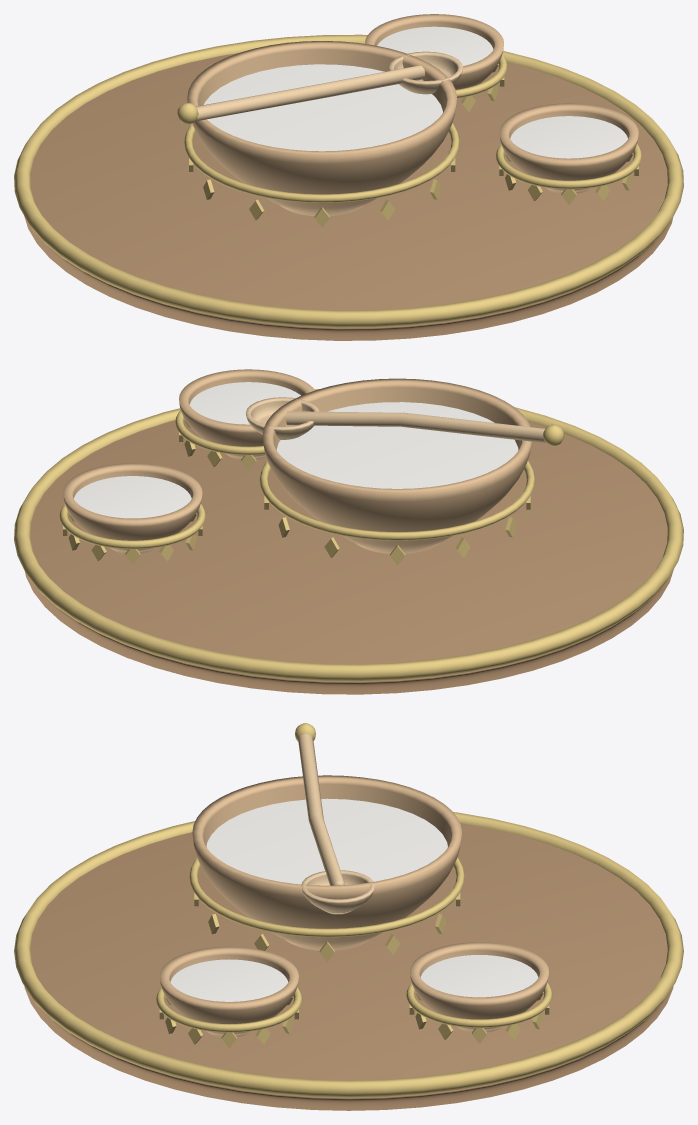
The model's file is kymyz.glb.
3 views of the same model, one above another, from view 1: azimuth 30°, elevation 25°; view 2: azimuth 150°, elevation 25°; view 3: azimuth 270°, elevation 25° (orthographic).
Parts seen in each view (by area): view 1: table, bowl (×3), table-rim, liquid (×3), bowl-band (×3), ladle-handle, ladle-cup; view 2: table, bowl (×3), liquid (×3), table-rim, bowl-band (×3), ladle-handle, ladle-cup; view 3: table, bowl (×3), liquid (×3), table-rim, bowl-band (×3), ladle-handle, ladle-cup.
Boxes of the visible parts, bbox=[...] form: table: bbox=[24, 53, 672, 340]; bowl (×3): bbox=[187, 14, 638, 216]; table-rim: bbox=[14, 34, 683, 327]; liquid (×3): bbox=[204, 26, 627, 158]; bowl-band (×3): bbox=[184, 54, 642, 202]; ladle-handle: bbox=[195, 65, 425, 121]; ladle-cup: bbox=[389, 51, 462, 94]; table: bbox=[25, 419, 673, 694]; bowl (×3): bbox=[63, 369, 531, 553]; liquid (×3): bbox=[74, 382, 518, 518]; table-rim: bbox=[14, 389, 683, 681]; bowl-band (×3): bbox=[59, 410, 535, 549]; ladle-handle: bbox=[286, 411, 545, 443]; ladle-cup: bbox=[246, 397, 319, 439]; table: bbox=[24, 823, 673, 1110]; bowl (×3): bbox=[159, 775, 548, 1036]; liquid (×3): bbox=[170, 798, 538, 1001]; table-rim: bbox=[14, 812, 683, 1097]; bowl-band (×3): bbox=[156, 857, 552, 1032]; ladle-handle: bbox=[298, 733, 344, 885]; ladle-cup: bbox=[301, 870, 374, 914].
Bounding box in the file's own units: 3.08 × 0.81 × 3.08.
